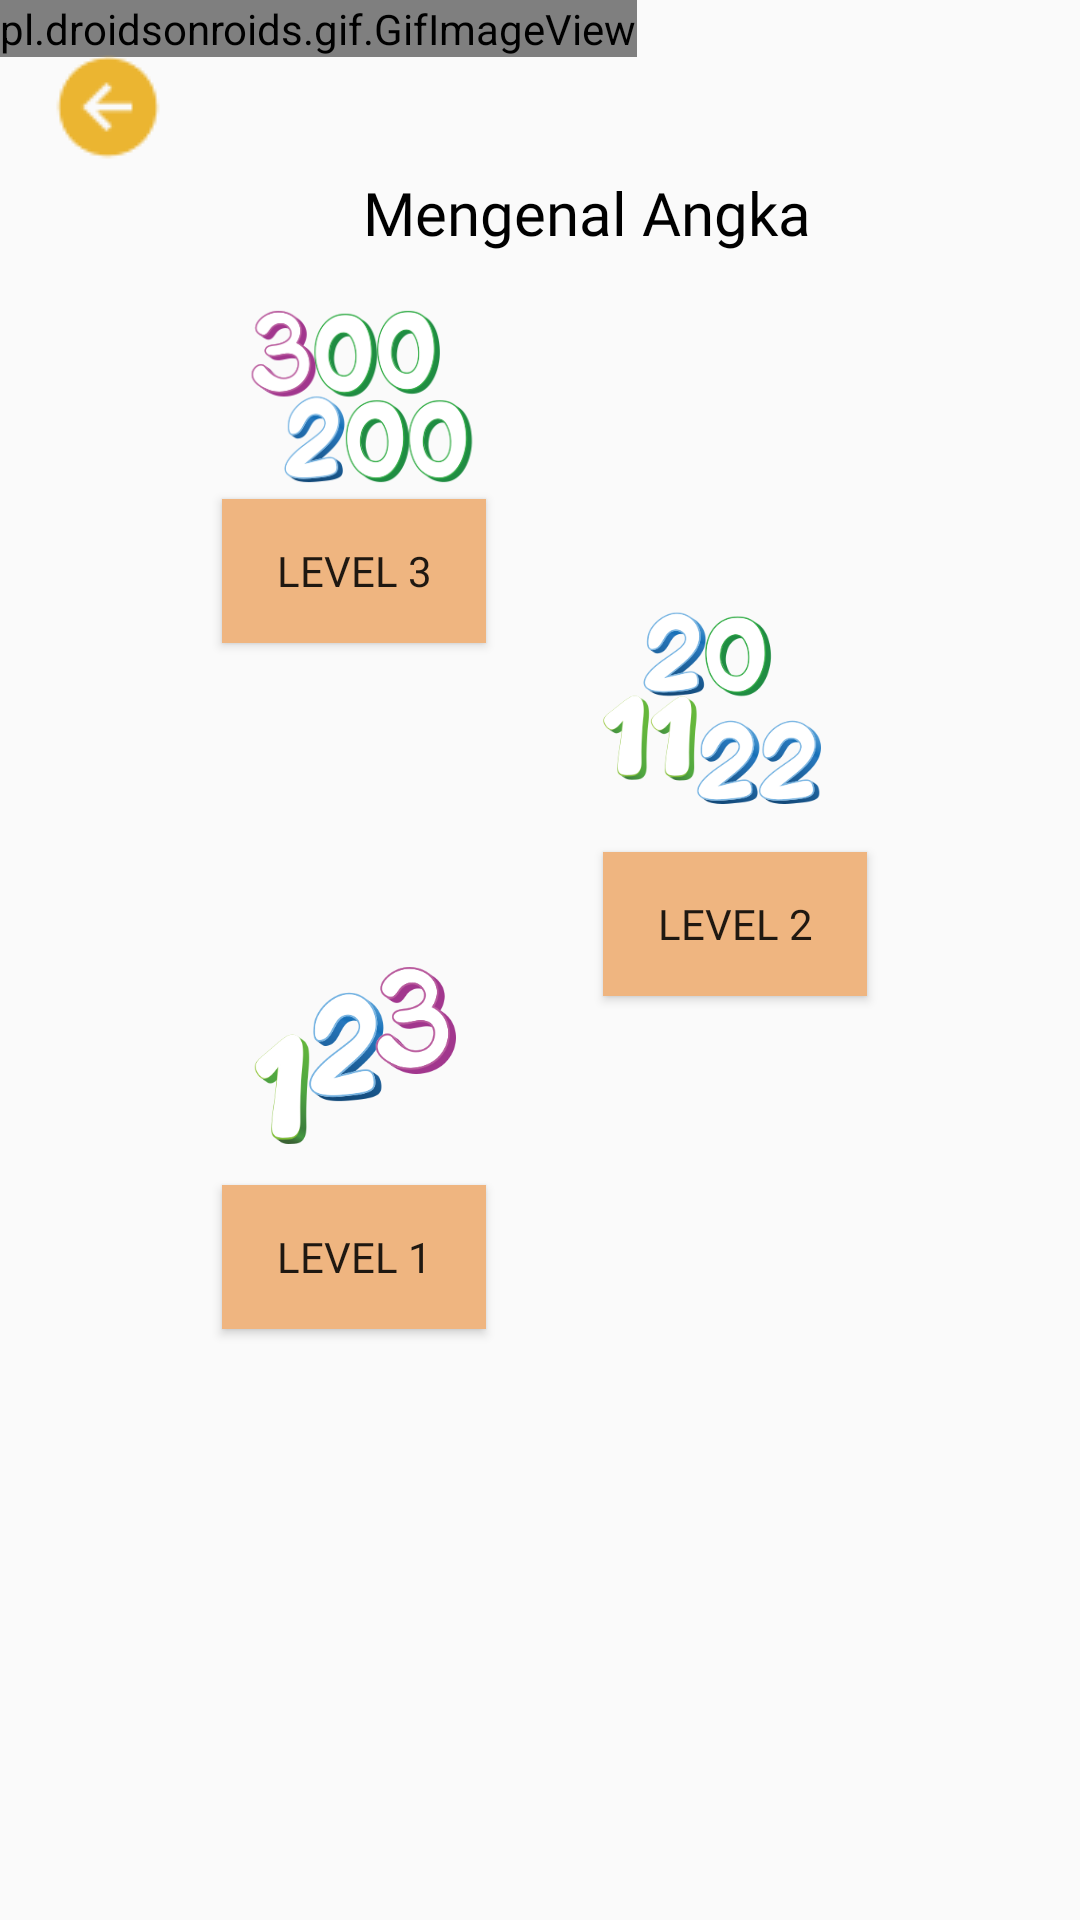

Named icons in this screenshot (1080w x 1920h) and their bounding boxes, BBox(x1, y1, x2, y2):
keluar: BBox(48, 47, 168, 158)
puluhan: BBox(603, 612, 868, 909)
satuan: BBox(226, 967, 484, 1210)
